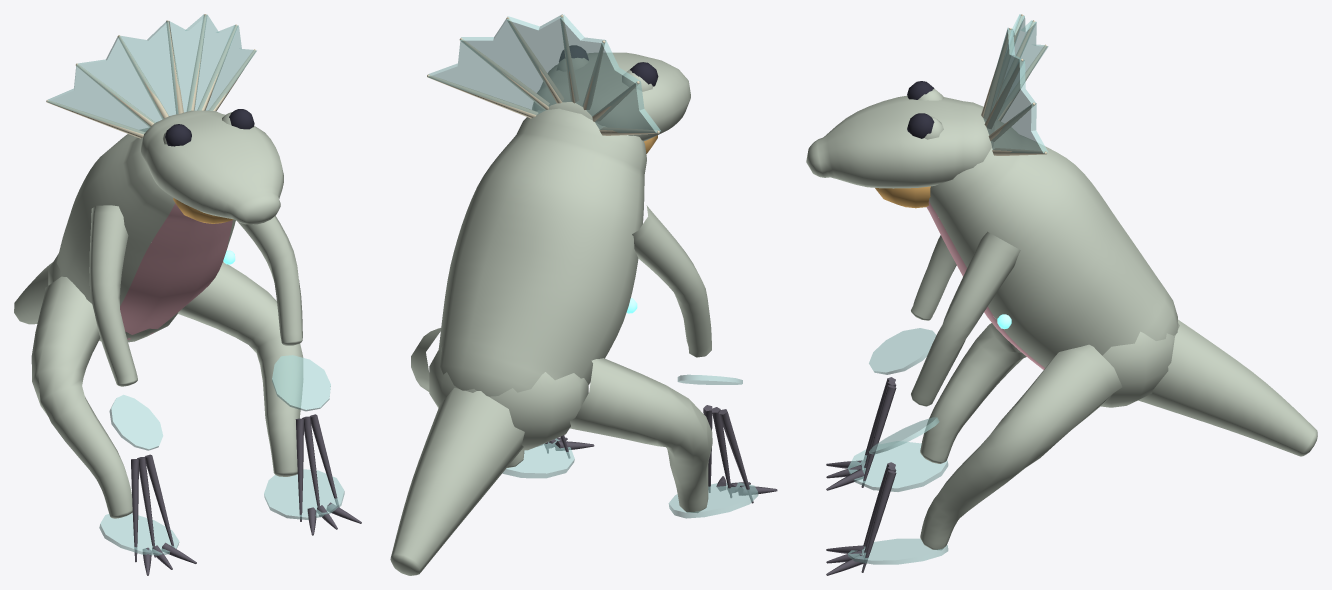
File: xeno-species-and-alien-creatures-amphibious-frilled-xe-35f7b666__21112.glb
3 renders of one model, left to right at view 1: azimuth 30°, elevation 25°; view 2: azimuth 150°, elevation 25°; view 3: azimuth 270°, elevation 25°, orthographic. The views are drawn at different scales.
Visible parts, largest first — view 1: amphibious-frilled-xeno; view 2: amphibious-frilled-xeno; view 3: amphibious-frilled-xeno.
Part boxes in pixels (box(x1,y1,x2,y2)): amphibious-frilled-xeno: box(14, 14, 361, 575); amphibious-frilled-xeno: box(390, 14, 777, 575); amphibious-frilled-xeno: box(806, 14, 1317, 575).
Size of the model in its own units: 1.06 by 1.84 by 1.73.
